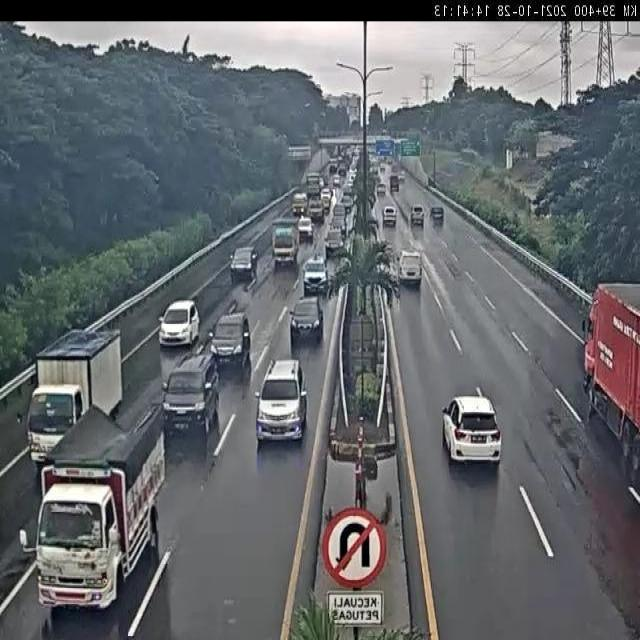Car: (158, 353, 218, 442), (255, 359, 308, 444), (442, 394, 502, 464), (208, 312, 251, 369), (158, 299, 200, 348), (289, 296, 324, 344), (302, 256, 330, 296), (229, 247, 258, 284), (297, 215, 314, 243), (383, 206, 397, 227), (410, 205, 424, 226)
Truck: (17, 401, 168, 614), (28, 325, 123, 480), (582, 284, 640, 495), (271, 217, 300, 269)
Van: (397, 249, 422, 286)
